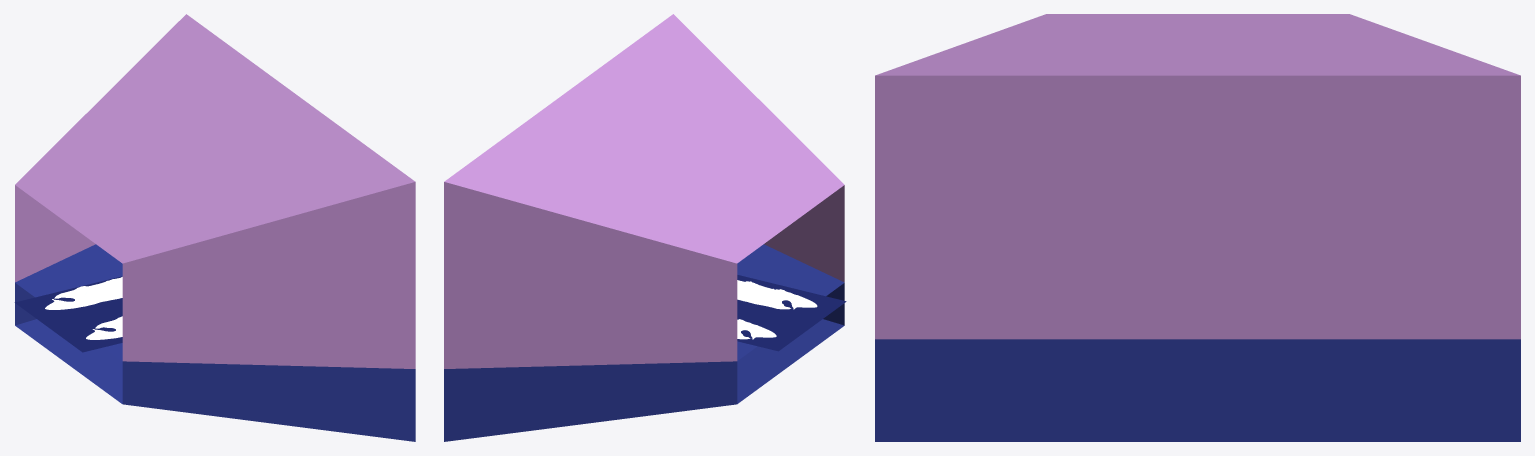
File: aplinka.fbx
3 views of the same model, side by side, from view 1: azimuth 30°, elevation 25°; view 2: azimuth 150°, elevation 25°; view 3: azimuth 270°, elevation 25° (orthographic). The views are drawn at different scales.
Parts seen in each view (by area): view 1: SKY, VANDUO, Landscape1, Landscape2; view 2: SKY, VANDUO, Landscape2, Landscape1; view 3: SKY.
Boxes of the visible parts, x1,y1,x2,y2 form: SKY: (15,14,415,441); VANDUO: (14,276,122,352); Landscape1: (45,277,122,309); Landscape2: (86,316,122,339); SKY: (444,14,844,441); VANDUO: (737,275,846,351); Landscape2: (737,280,817,309); Landscape1: (737,319,776,339); SKY: (875,14,1520,441).
Bounding box in the file's own units: 9.59 × 9.4 × 15.01.
